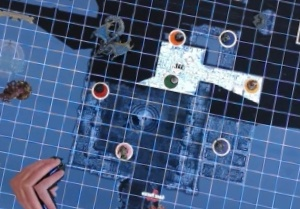blue: (217, 25, 241, 50)
green: (162, 72, 183, 93)
orange: (165, 27, 189, 49)
pink: (112, 138, 136, 163)
red: (90, 78, 114, 102)
violet: (208, 132, 234, 158)
yellow: (242, 74, 260, 93)
